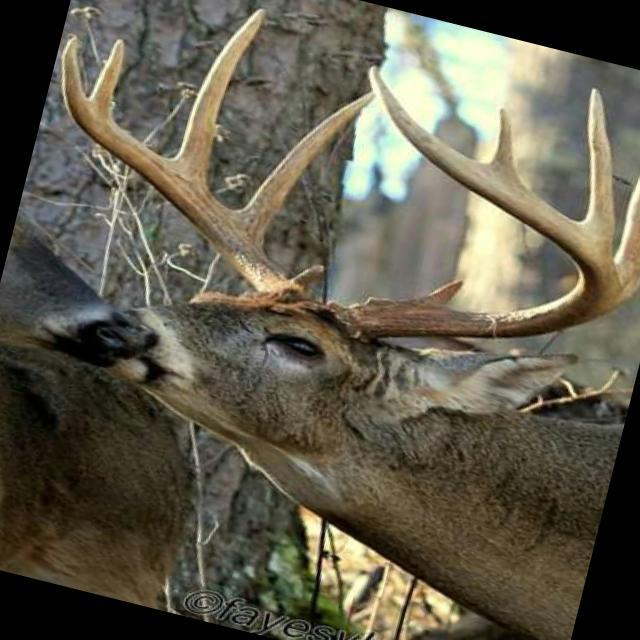L-F: (326, 64, 622, 344)
L-G1: (408, 278, 464, 308)
L-G3: (614, 176, 640, 292)
L-G4: (582, 87, 617, 251)
L-G5: (487, 106, 518, 180)
R-G1: (284, 264, 324, 295)
R-G2: (238, 92, 375, 245)
R-G3: (170, 7, 268, 180)
R-G4: (88, 37, 126, 116)
